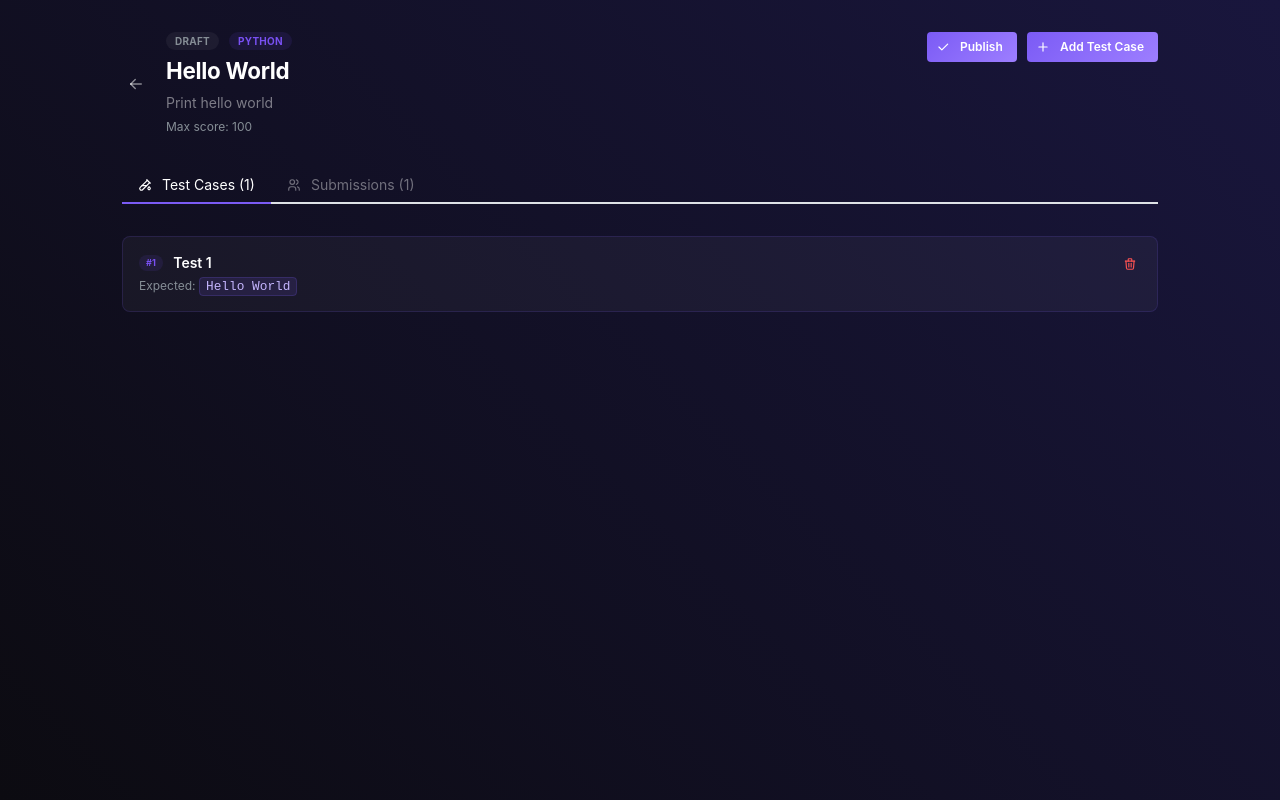
Test: TeacherAssignmentPage Component tests › should show form error if expected output is empty on add test case
Click the button "Add Test Case". click: point(1092, 47)
box: left=1027, top=32, right=1158, bottom=62
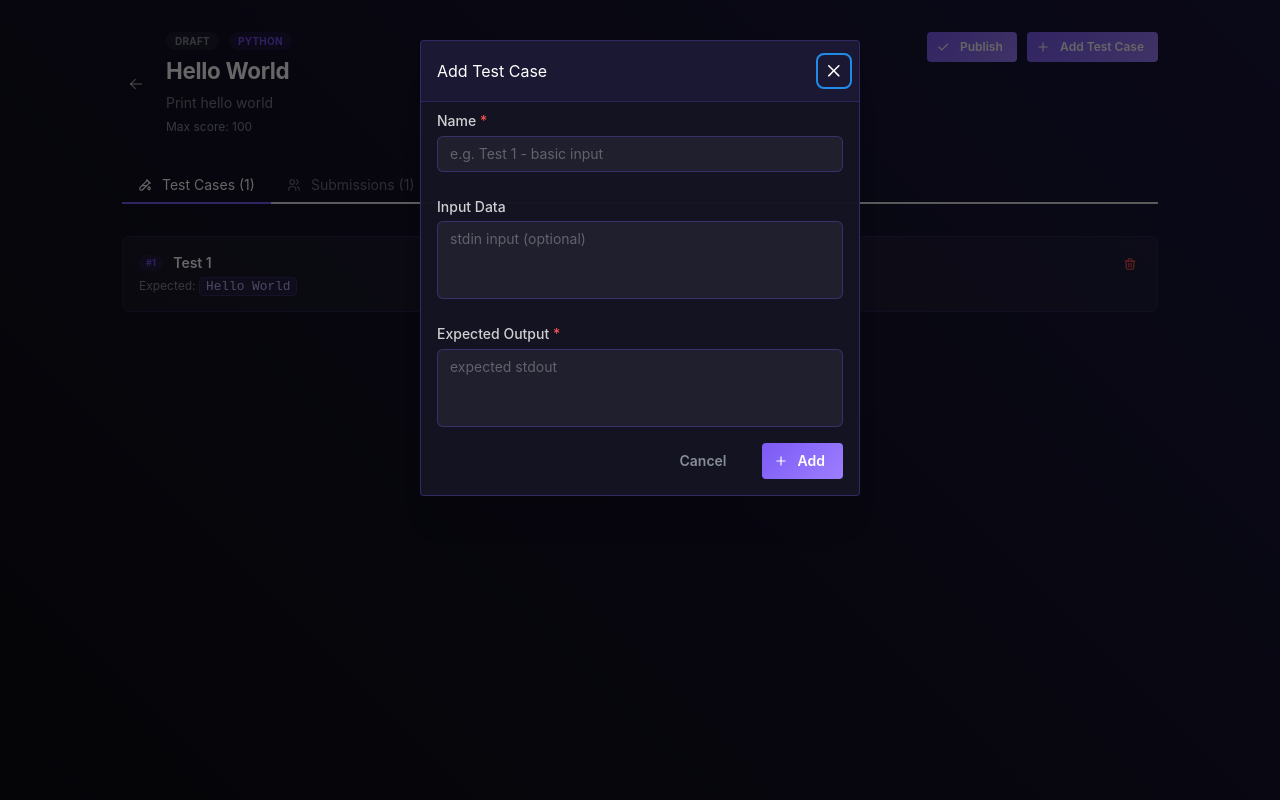
Type "My Test" into the field with placeholder "e.g. Test 1 - basic input". click: point(640, 154)
box: left=437, top=136, right=843, bottom=172
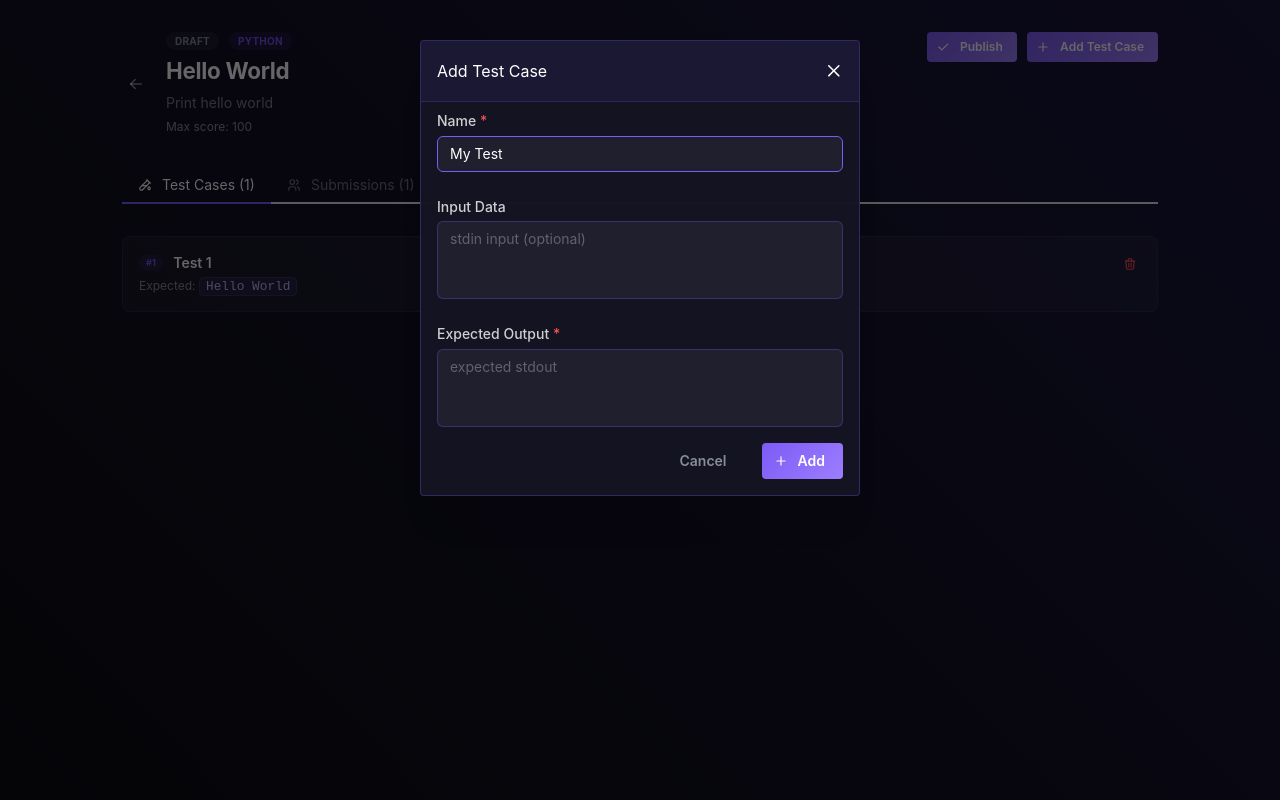
Click the button "Add". click: point(802, 461)
box: left=762, top=443, right=843, bottom=479
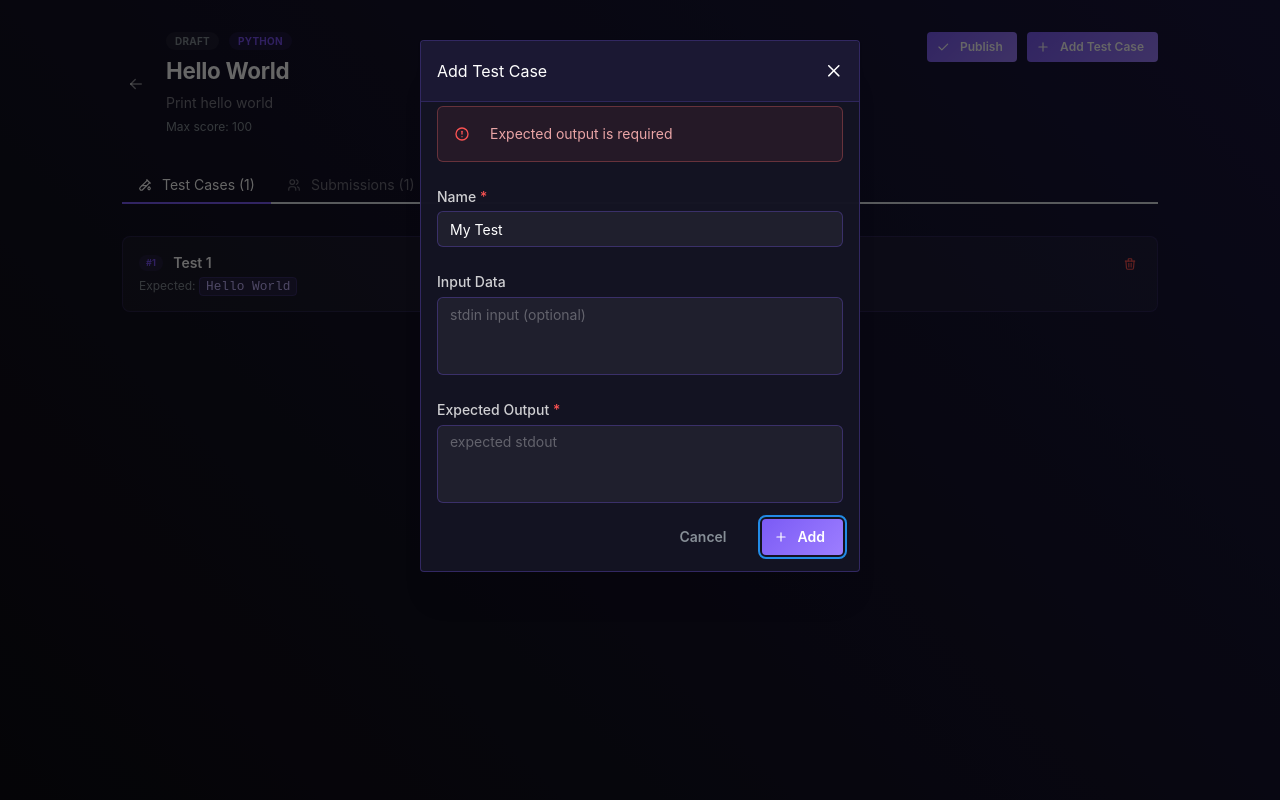
Result: the text "Expected output is required" is shown at left=490, top=125, right=672, bottom=142
